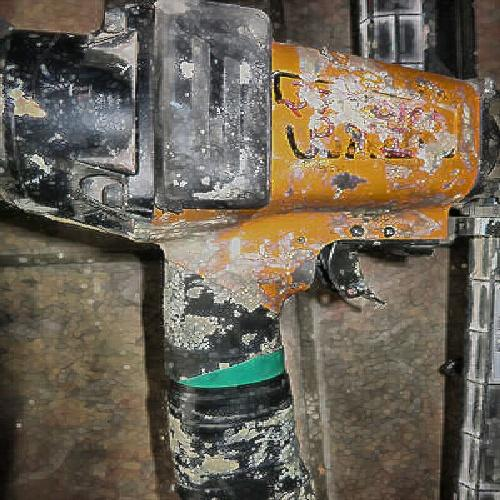stapler: (30, 28, 465, 478)
